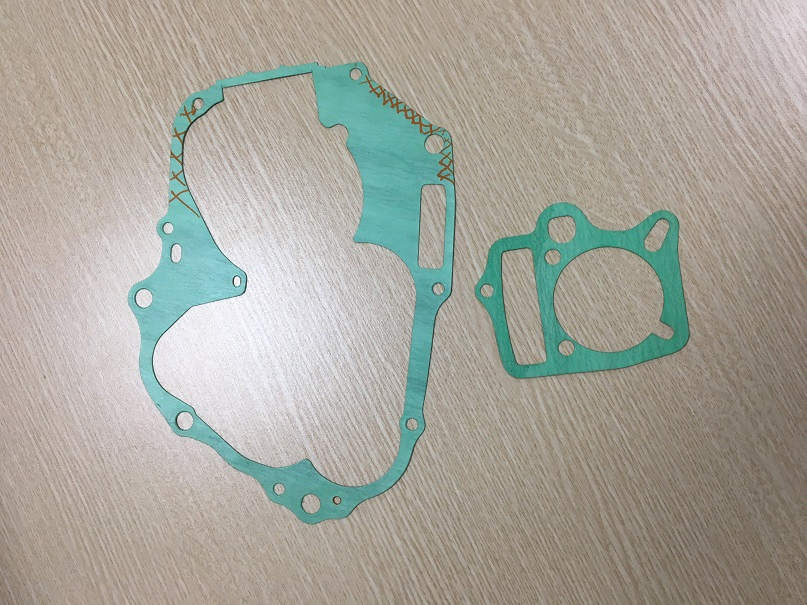type3: (126, 56, 464, 526)
type4: (470, 190, 694, 384)
